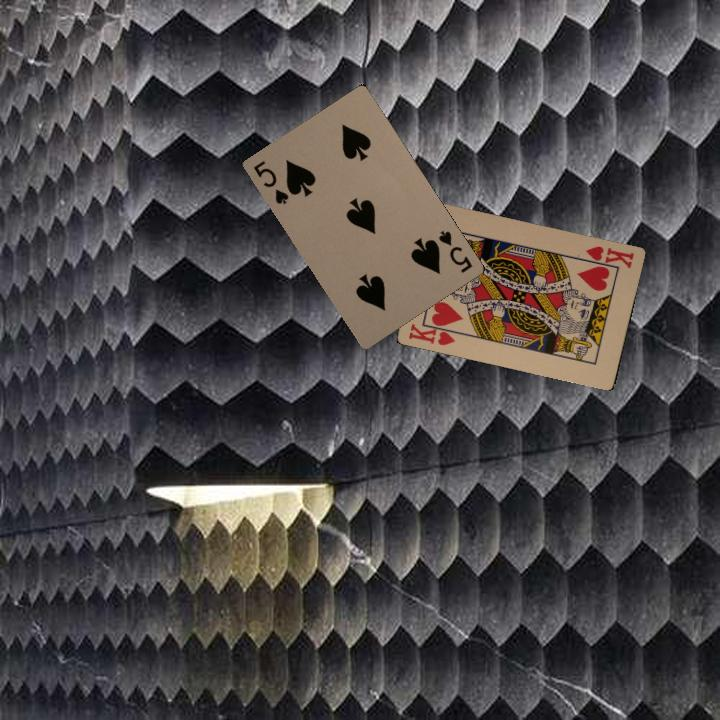5s: (249, 156, 291, 207), (434, 227, 475, 275)
Kh: (580, 242, 636, 272), (404, 318, 460, 348)
